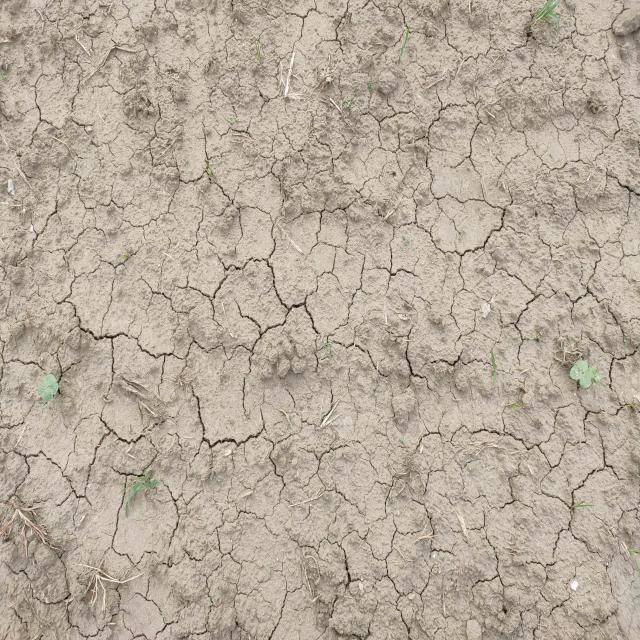seedling: (570, 361, 588, 379), (44, 374, 59, 395), (38, 383, 53, 402), (579, 370, 593, 388), (592, 371, 601, 385), (588, 366, 597, 379)
